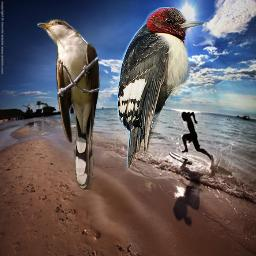Cuckoo: (37, 19, 101, 190)
Woodpecker: (117, 7, 205, 168)
